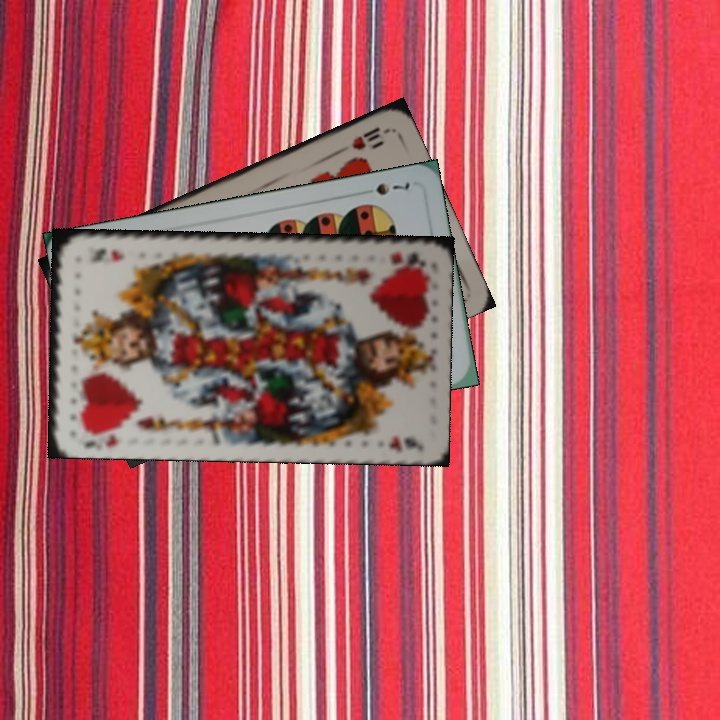H10: (347, 123, 383, 153)
HK: (387, 248, 426, 271), (78, 430, 121, 450)
S7: (372, 178, 413, 198)
